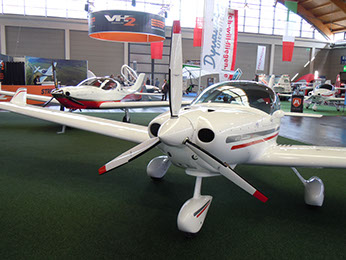Propeller: (96, 23, 269, 196)
